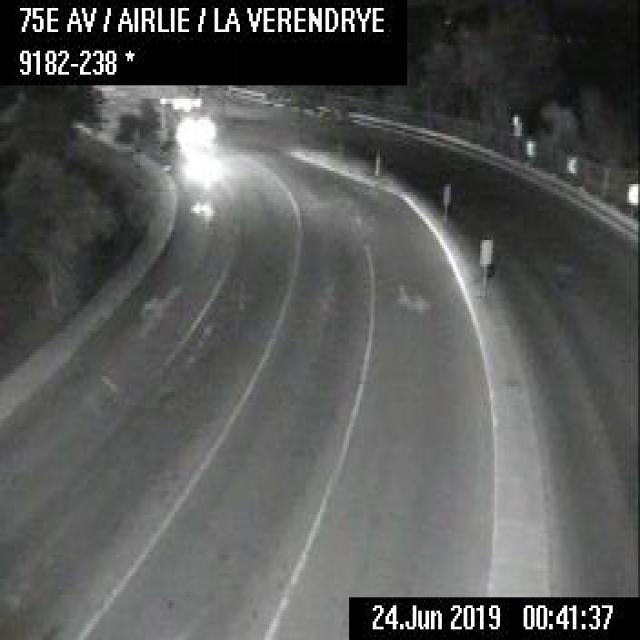vehicle: (169, 99, 216, 152)
